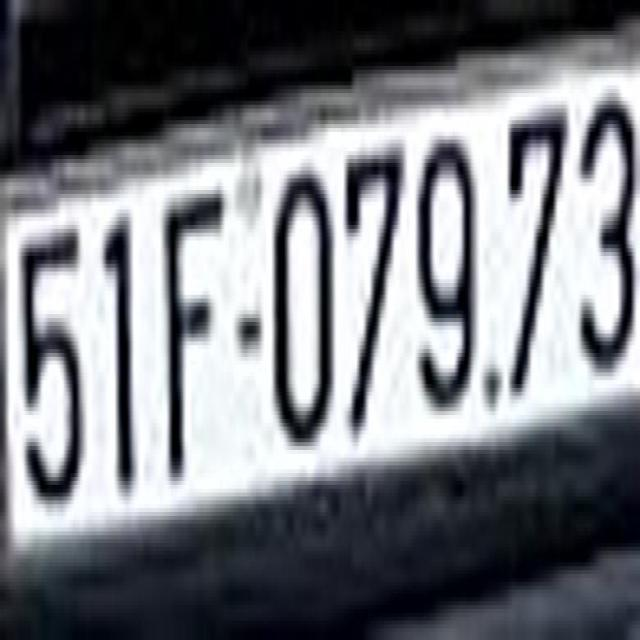0: (272, 132, 336, 477)
1: (99, 190, 146, 512)
3: (575, 27, 639, 380)
5: (18, 202, 90, 524)
7: (504, 54, 565, 415), (340, 112, 406, 434)
9: (414, 74, 475, 446)
F: (158, 163, 224, 496)
